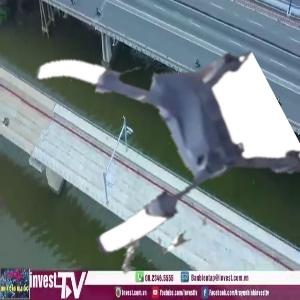drone: (37, 7, 276, 246)
